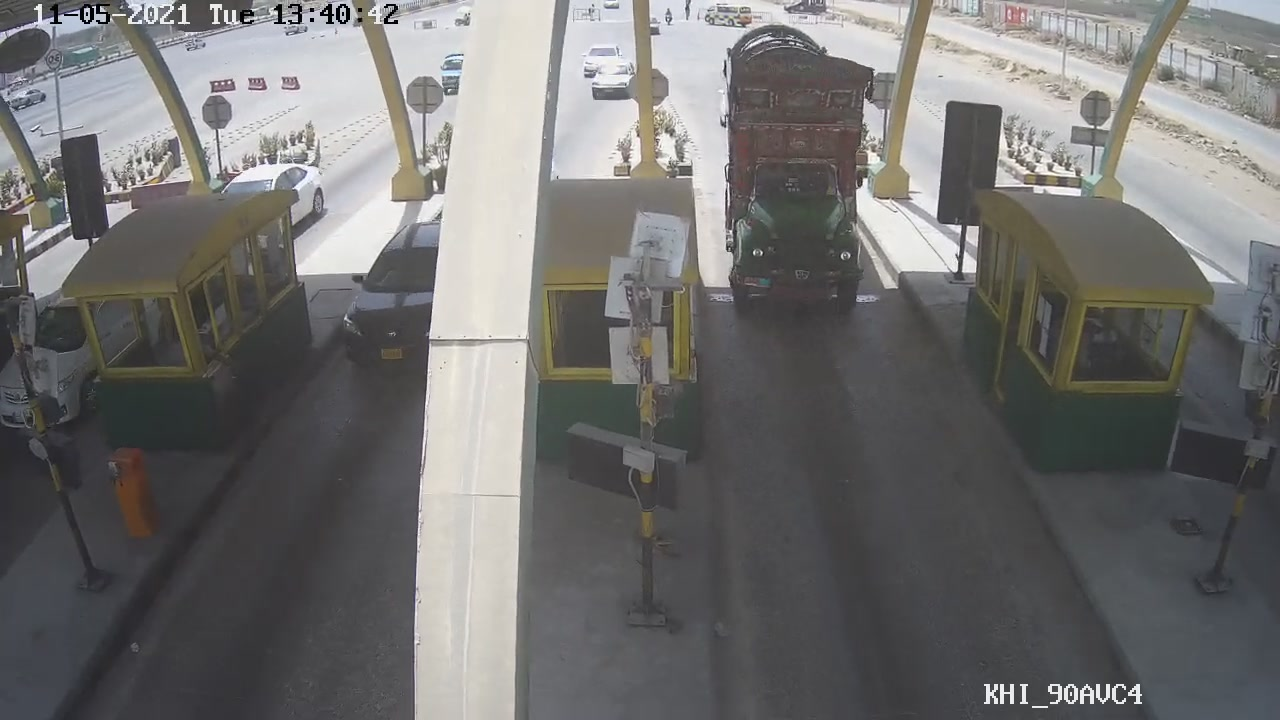F5: (713, 30, 885, 328)
